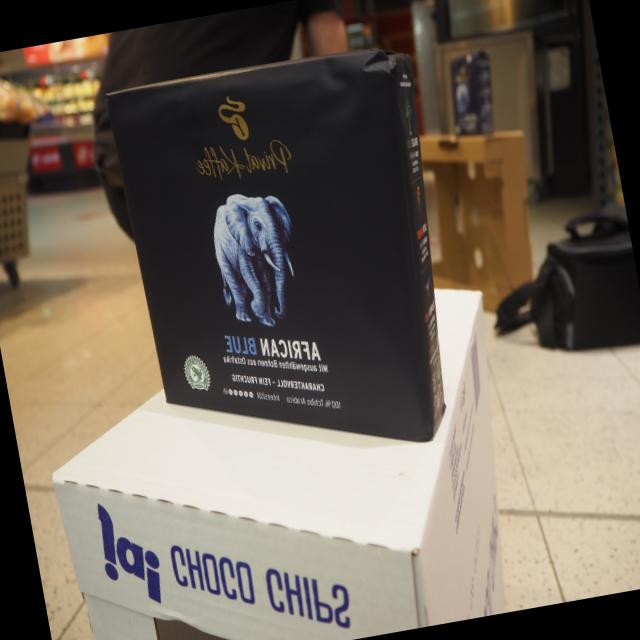AB Gemahlen: (102, 42, 436, 448)
